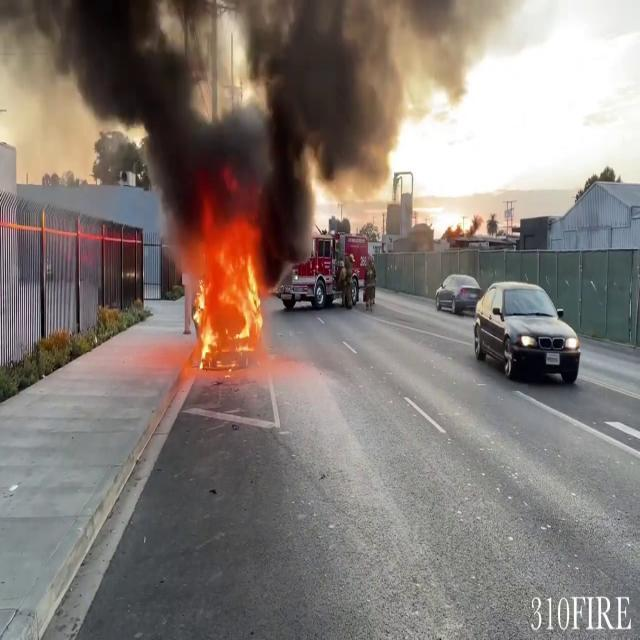Fire: (182, 208, 266, 364)
Smoke: (34, 0, 416, 239)
